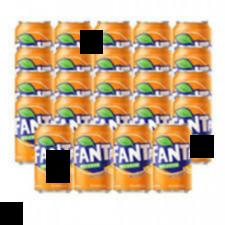fanta_orange: (151, 124, 193, 196), (72, 122, 113, 194), (33, 122, 73, 193), (113, 123, 152, 194)
